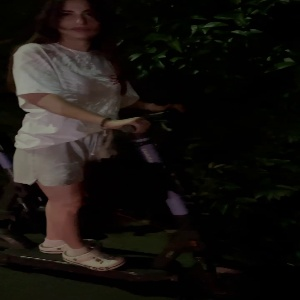human on a scooter: (1, 1, 242, 297)
